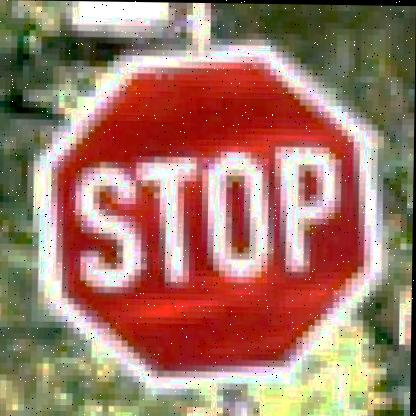Stop Sign: (30, 40, 392, 389)
